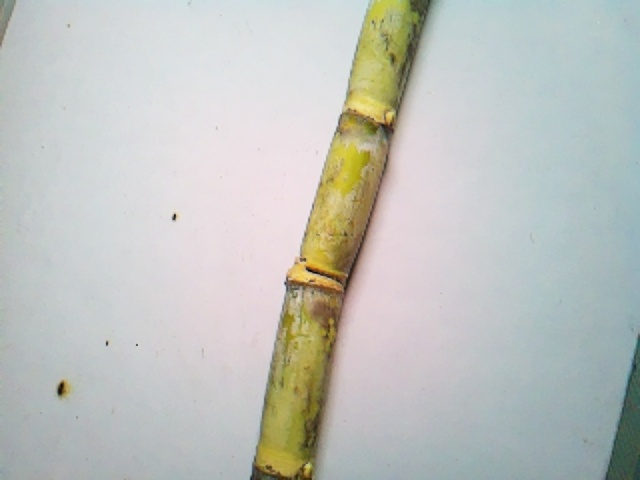Good Sugarcane: (248, 0, 430, 480)
Node: (326, 91, 401, 144), (277, 252, 354, 299), (250, 442, 321, 480)
